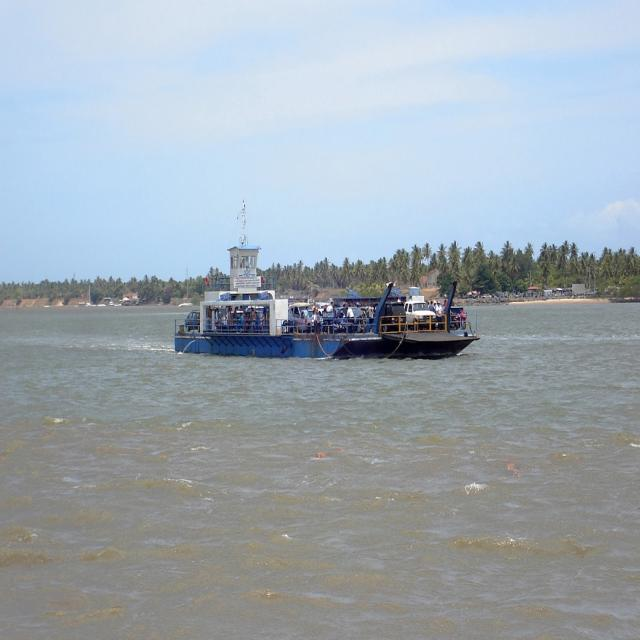cargoship: (174, 236, 477, 360)
